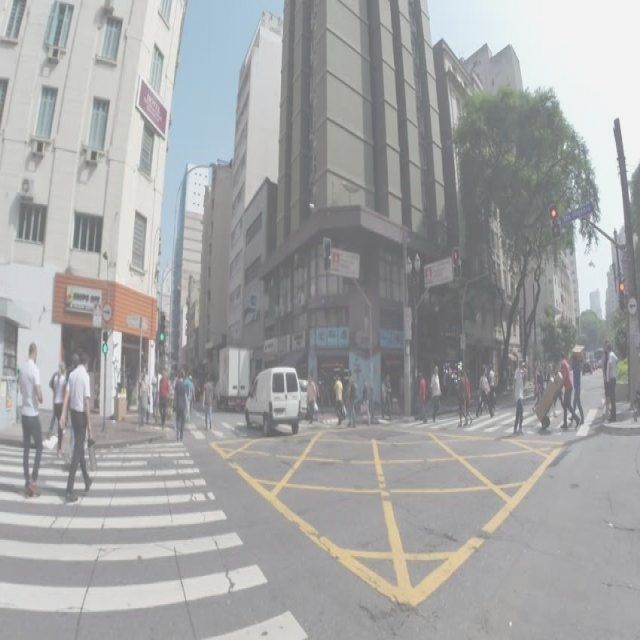pessoa: (58, 350, 94, 504), (18, 338, 43, 498), (48, 360, 66, 460), (558, 350, 580, 430), (66, 352, 80, 460), (568, 349, 584, 427), (172, 368, 188, 443), (511, 358, 526, 436), (605, 341, 619, 423), (475, 365, 493, 420), (600, 338, 612, 416), (157, 368, 170, 432), (201, 373, 213, 432), (456, 370, 468, 428), (460, 370, 472, 426), (530, 362, 542, 414), (346, 375, 357, 428), (430, 364, 440, 422), (138, 372, 148, 428), (418, 370, 428, 424), (306, 374, 316, 426), (334, 374, 344, 426), (150, 369, 159, 419), (384, 373, 393, 420), (488, 364, 496, 412), (188, 374, 196, 418), (361, 374, 369, 402), (546, 361, 554, 384), (553, 360, 562, 378)
